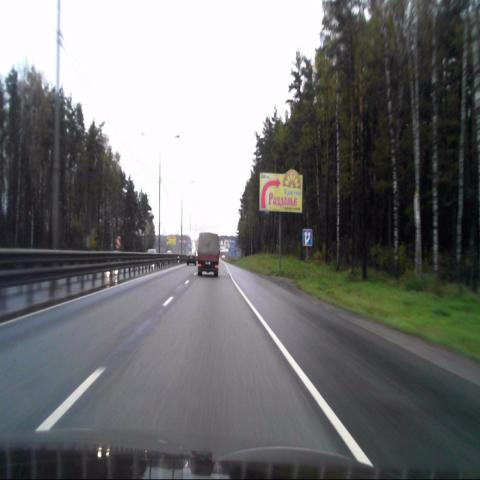5_15_3: (302, 229, 312, 246)
